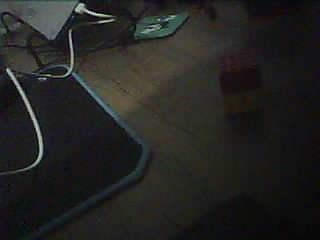lego: (216, 51, 264, 114)
